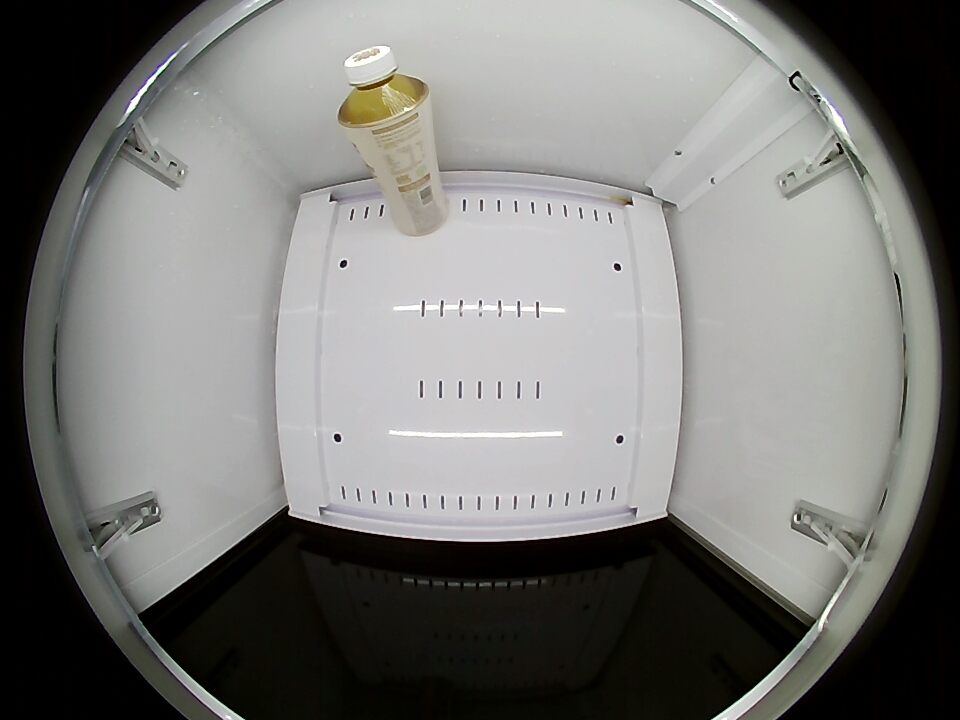rancha-2: (340, 45, 430, 136)
